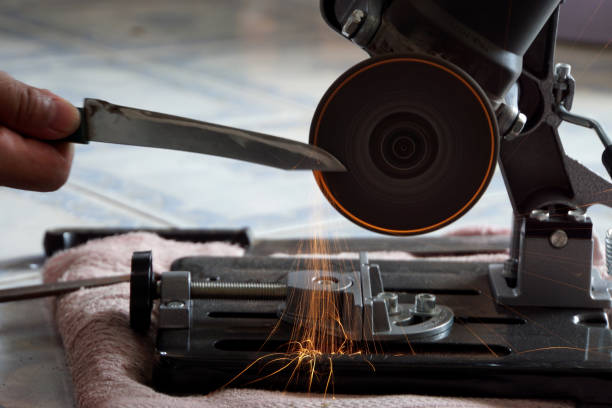knife: (59, 94, 350, 175), (42, 219, 510, 255)
